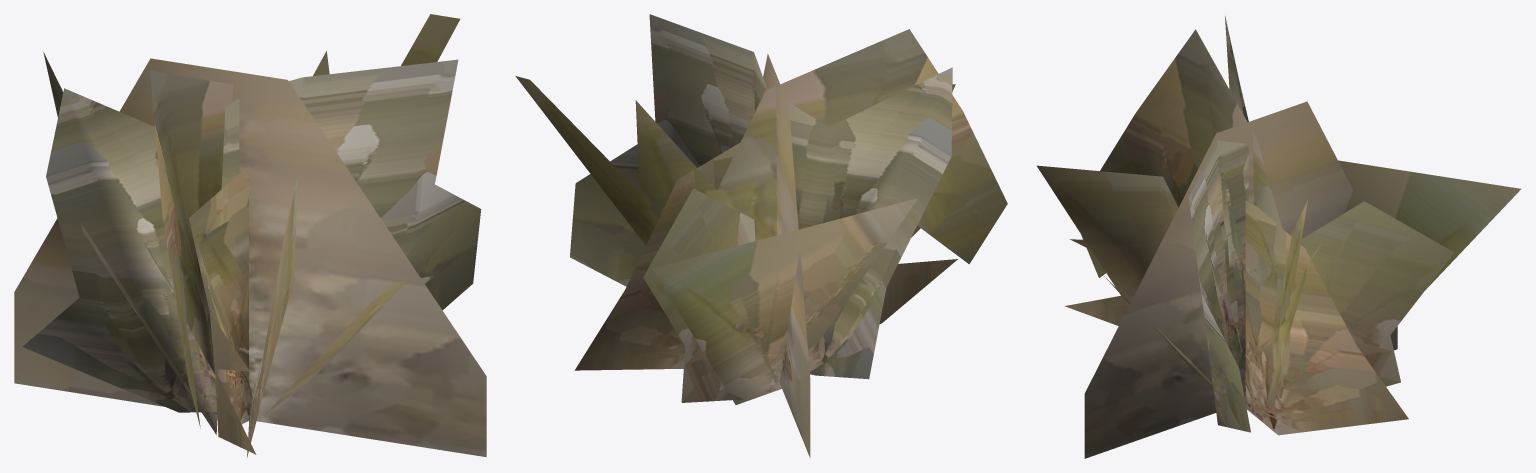
File: MOD_PlantScrub_A.fbx
The picture shows the model from 3 angles, left to right: view 1: azimuth 30°, elevation 25°; view 2: azimuth 150°, elevation 25°; view 3: azimuth 270°, elevation 25°; orthographic projection. The views are drawn at different scales.
Parts seen in each view (by area): view 1: MOD_PlantScrub_A; view 2: MOD_PlantScrub_A; view 3: MOD_PlantScrub_A.
Boxes of the visible parts, box(x1,y1,x2,y2) form: MOD_PlantScrub_A: box(14, 14, 486, 457); MOD_PlantScrub_A: box(515, 14, 1007, 457); MOD_PlantScrub_A: box(1037, 16, 1520, 458).
Bounding box in the file's own units: 34.77 × 30.26 × 39.44.
1 material, 1 textured.
